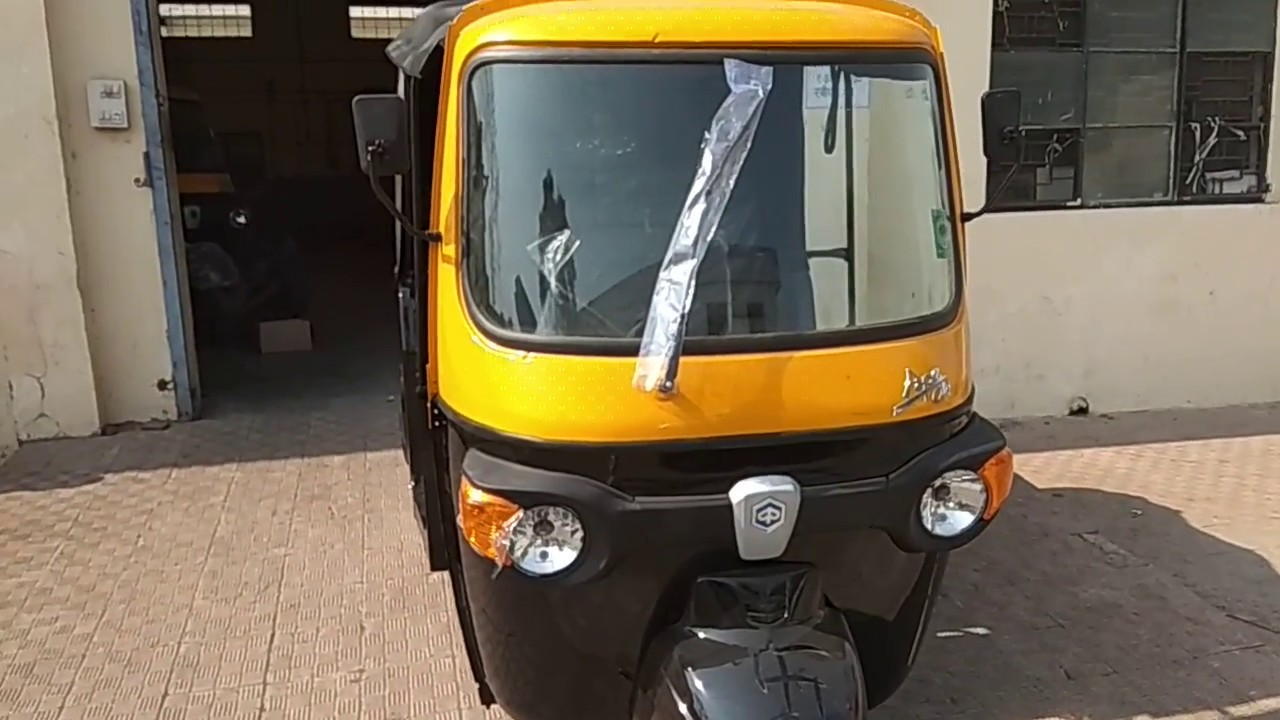autorickshaw: (317, 1, 1015, 718)
